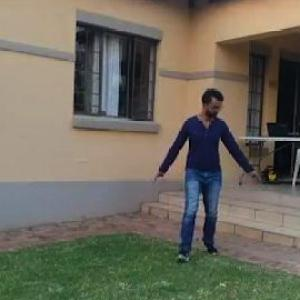land: (154, 91, 259, 263)
